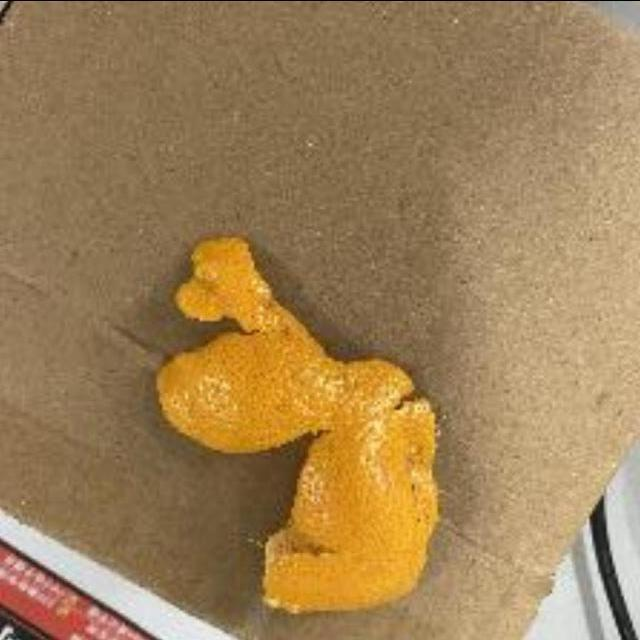orange peel: (157, 232, 441, 610)
